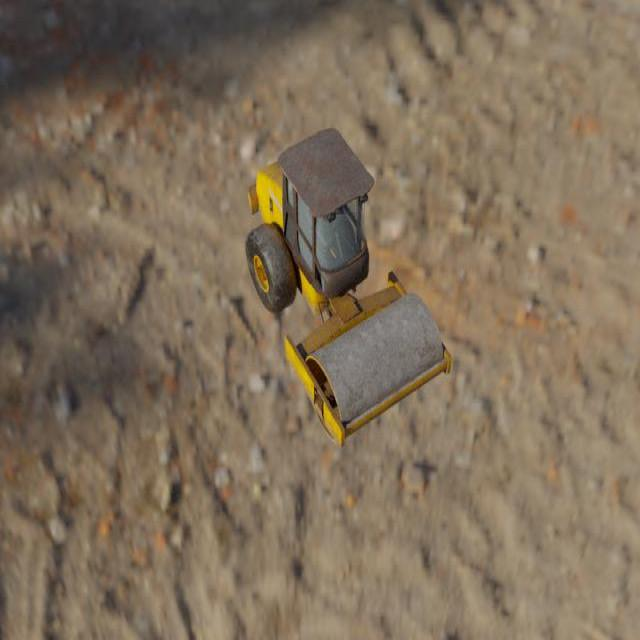Roller: (244, 127, 452, 448)
